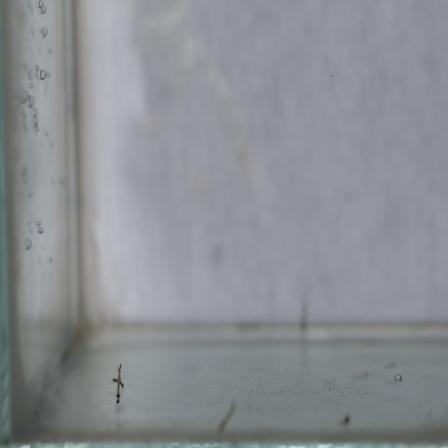Jentik-Nyamuk: (108, 359, 128, 408)
